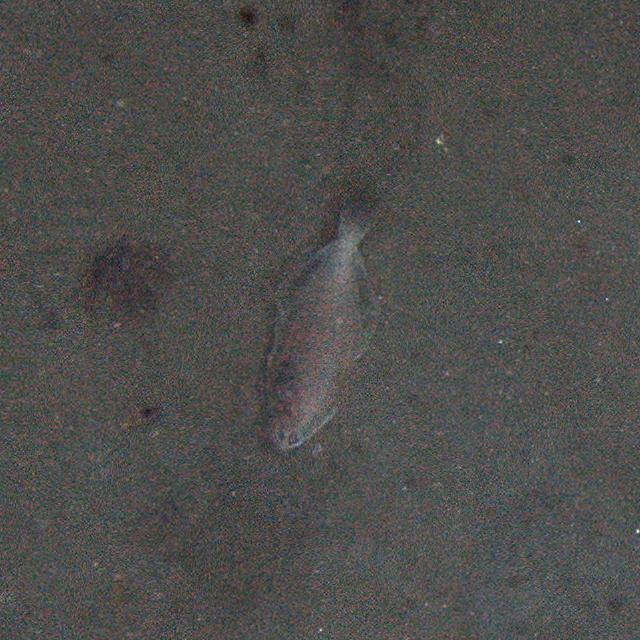flatfish: (256, 190, 388, 450)
